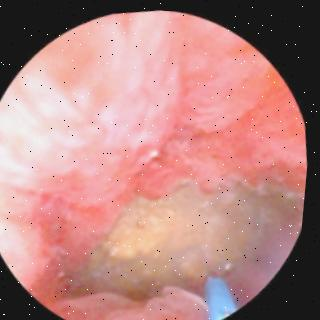fiber: (210, 272, 240, 317)
stone: (83, 180, 296, 294)
tissue: (0, 13, 306, 320)
